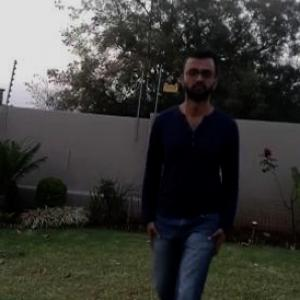follow: (140, 58, 236, 299)
